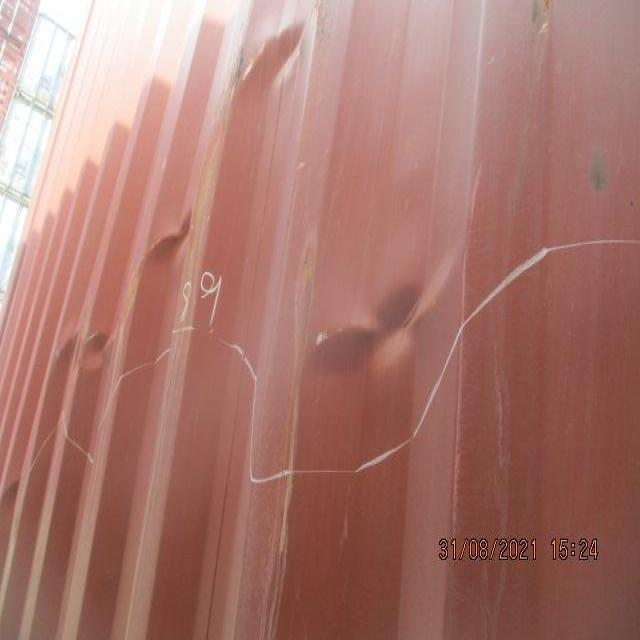dent: (35, 195, 216, 395), (300, 237, 473, 406), (204, 5, 324, 114)
